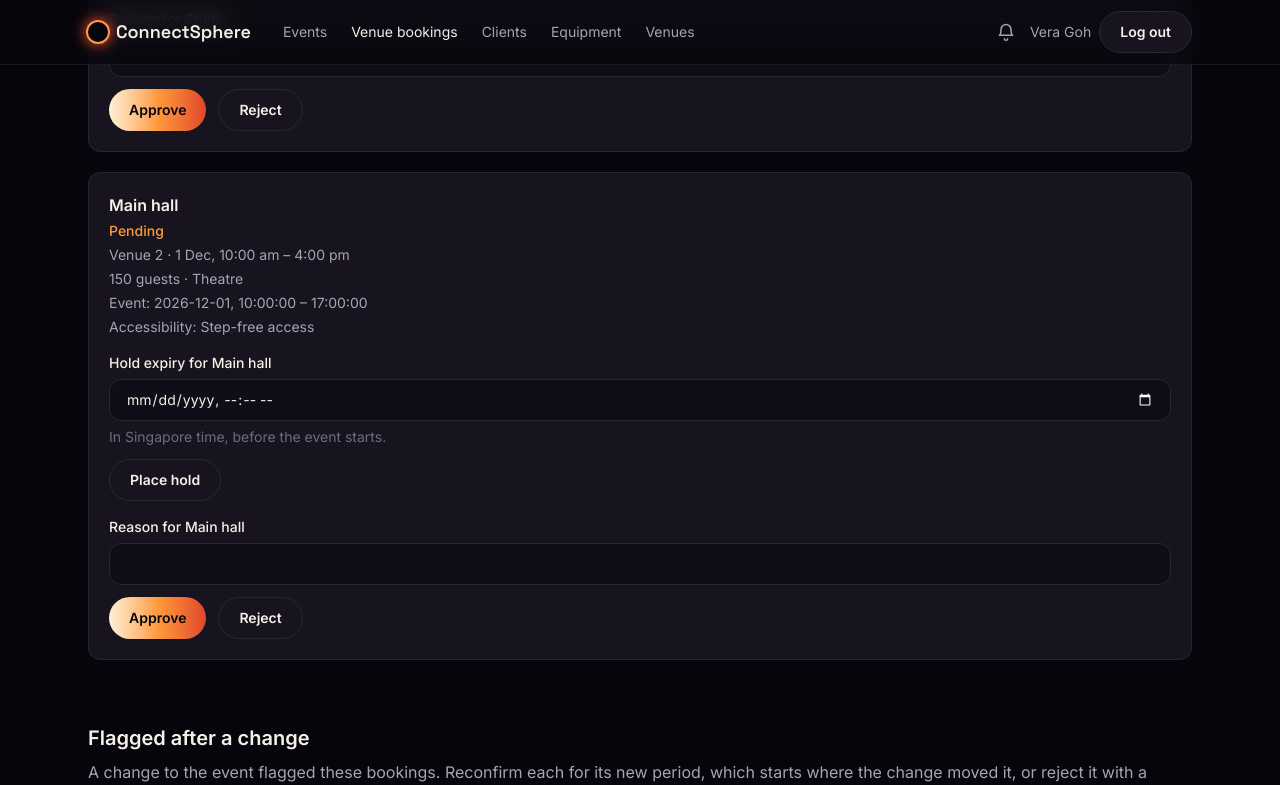
Test: SCRUM-75 holding a venue from the venue booking decisions screen › shows the backend's refusal on the card when the event has only that venue
(page scrolled)
Type "2026-11-15T17:00" into the field labelled "Hold expiry for Main hall" at (640, 400), box [109,379,1171,421]
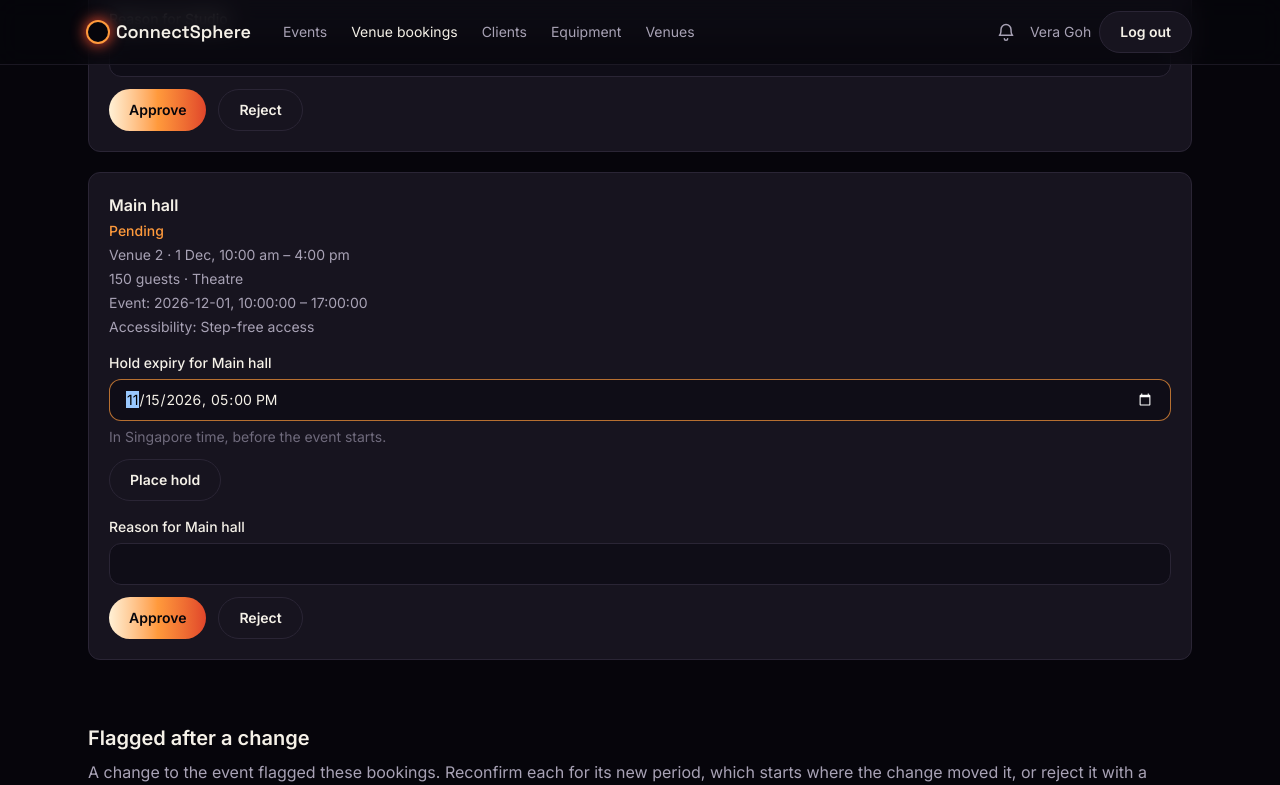
Click the button "Place hold" at (165, 480), box [109,459,221,501]
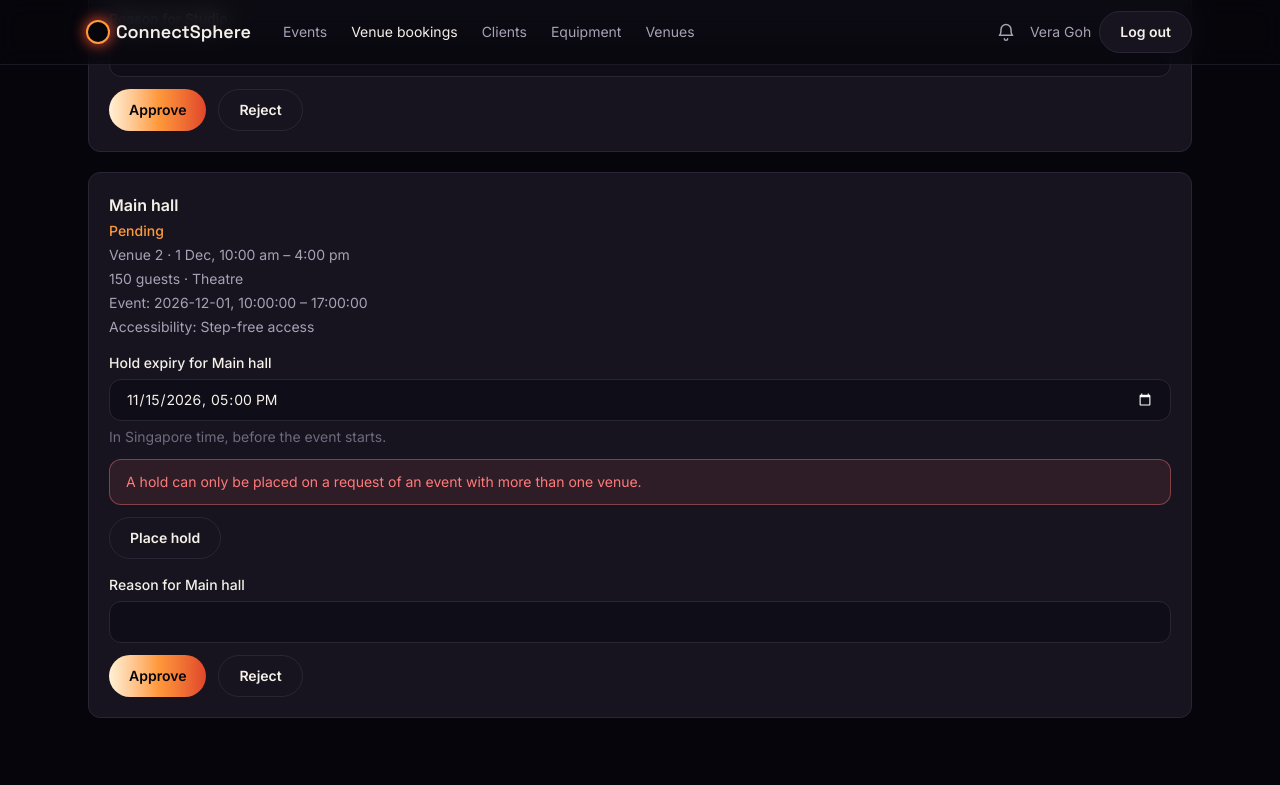
Expected: the text "Pending" is shown, [109,222,164,239]
Expected: the message reads "A hold can only be placed on a request of an event with more than one venue.", [126,473,642,490]
